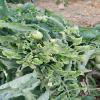Tomato leaf yellow virus: (62, 51, 82, 60), (1, 49, 15, 60), (30, 58, 46, 66), (73, 36, 85, 46), (46, 47, 61, 54), (38, 56, 51, 64), (47, 77, 56, 88), (71, 70, 85, 77), (54, 62, 65, 70), (82, 45, 90, 53), (13, 54, 23, 60), (59, 71, 69, 76)
